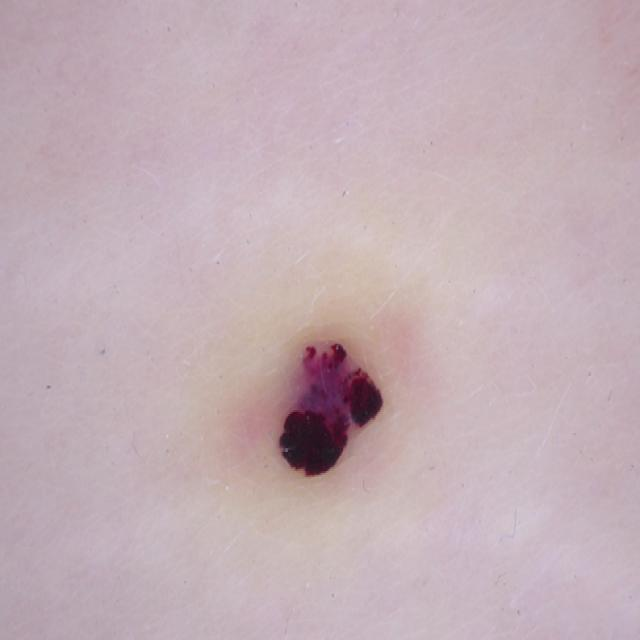Vascular Lesions: (236, 301, 452, 584)
